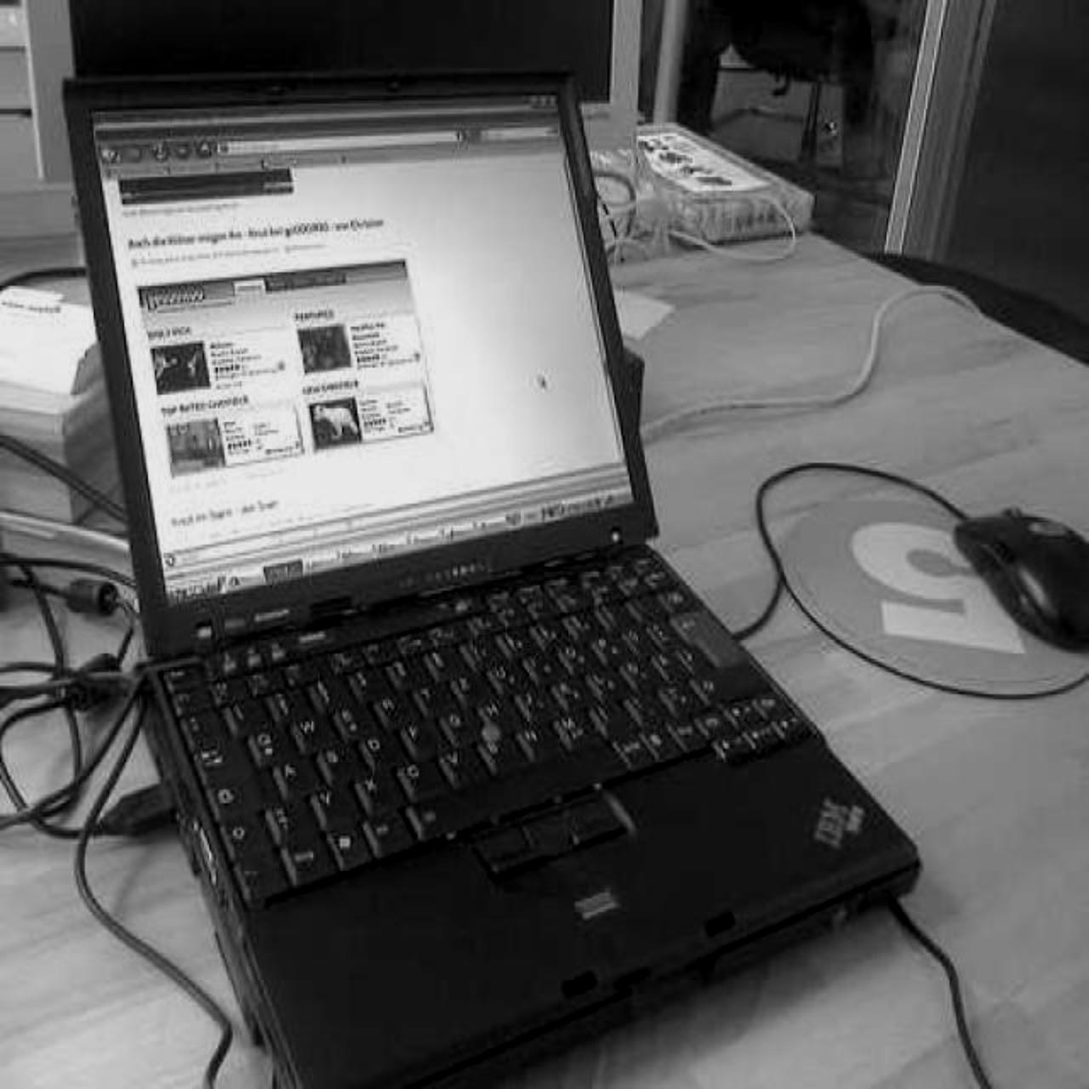laptop: (95, 75, 885, 1035)
